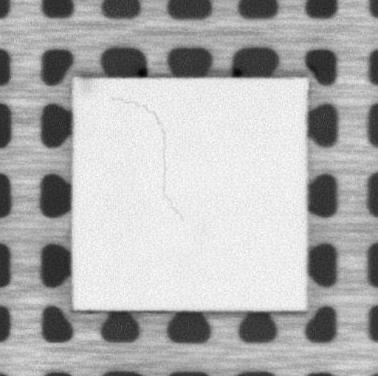DIE_CRACK: (110, 96, 184, 223)
